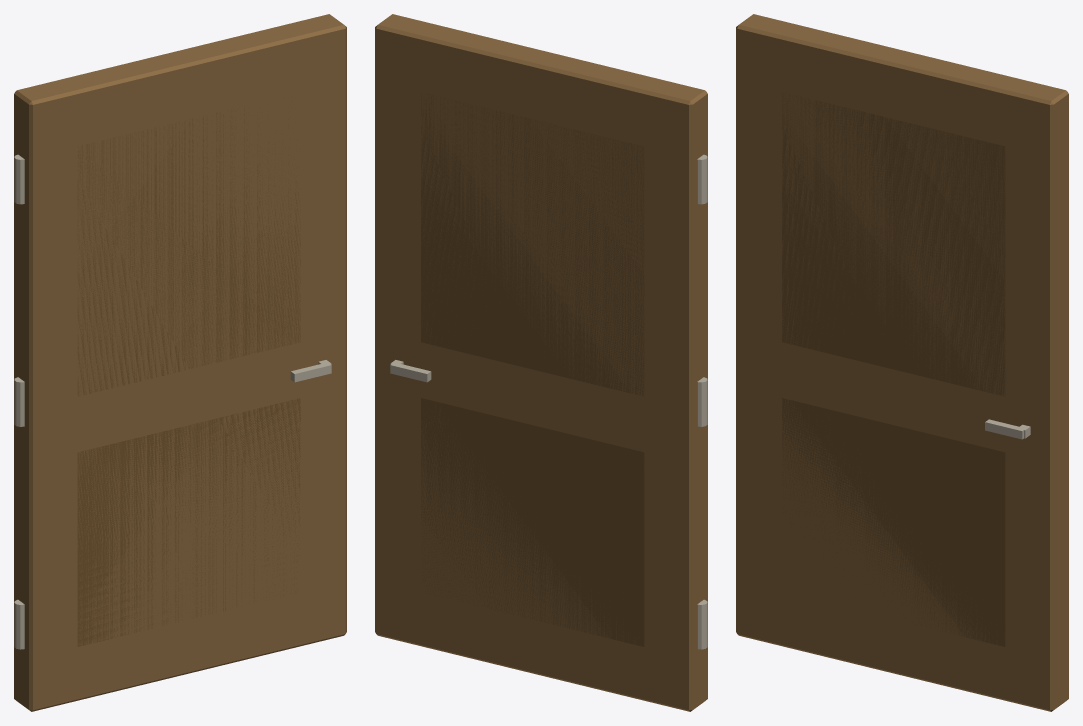
Rendered from door.glb.
3 views of the same model, side by side, from view 1: azimuth 30°, elevation 25°; view 2: azimuth 150°, elevation 25°; view 3: azimuth 330°, elevation 25° (orthographic).
Parts seen in each view (by area): view 1: door; view 2: door; view 3: door.
Part boxes in pixels (<box>): door: <box>14,14,346,711</box>; door: <box>375,14,707,711</box>; door: <box>736,14,1068,711</box>.
Bounding box in the file's own units: 1.22 × 2.2 × 0.205.
